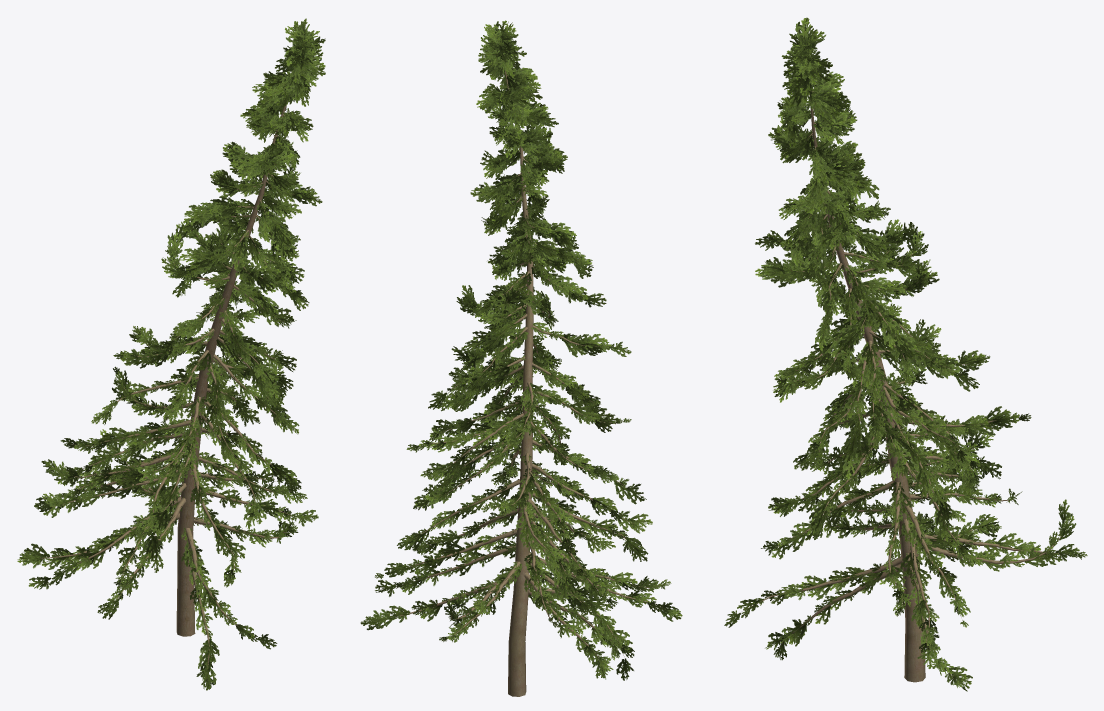
File: pine_small_02.glb
3 views of the same model, side by side, from view 1: azimuth 30°, elevation 25°; view 2: azimuth 150°, elevation 25°; view 3: azimuth 270°, elevation 25° (orthographic). The views are drawn at different scales.
Visible parts, largest first — view 1: Tree; view 2: Tree; view 3: Tree.
Part boxes in pixels (x1,y1,x2,y2): Tree: [17, 18, 325, 690]; Tree: [360, 20, 682, 696]; Tree: [724, 17, 1087, 691].
Size of the model in its own units: 18.56 by 40.46 by 19.46.
Materials: 2 (2 with a texture image).
